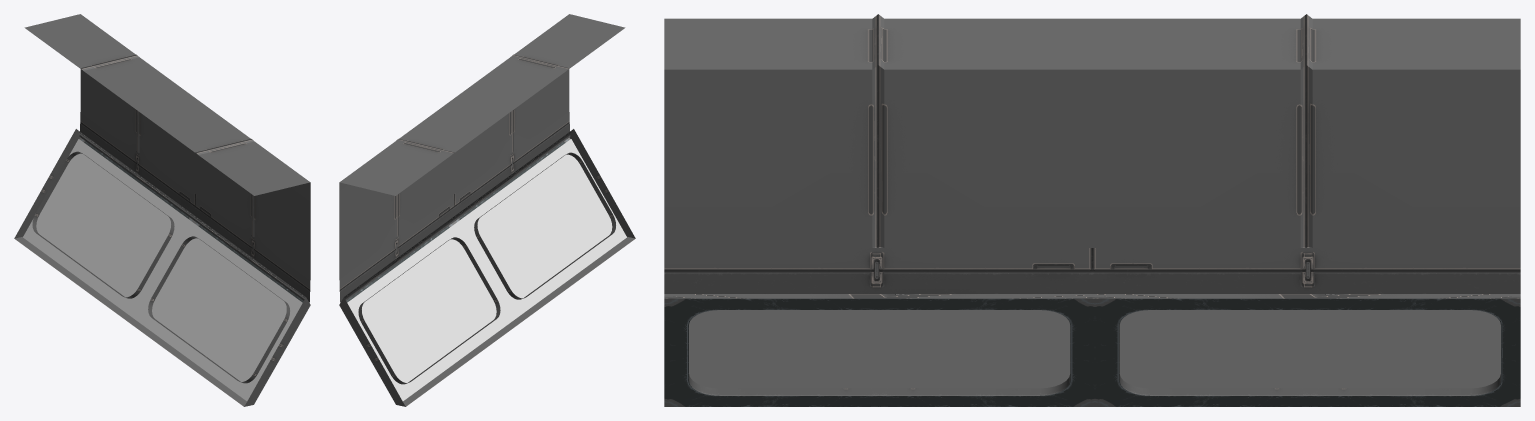
The model's file is S_TopWindowStraight.gltf.
3 renders of one model, left to right at view 1: azimuth 30°, elevation 25°; view 2: azimuth 150°, elevation 25°; view 3: azimuth 270°, elevation 25°, orthographic. The views are drawn at different scales.
Visible parts, largest first — view 1: Plane_172-col; view 2: Plane_172-col; view 3: Plane_172-col.
Boxes of the visible parts, x1=… form: Plane_172-col: x1=14, y1=14, x2=310, y2=406; Plane_172-col: x1=339, y1=14, x2=635, y2=406; Plane_172-col: x1=664, y1=14, x2=1520, y2=406.
Bounding box in the file's own units: 0.6693 × 2.02 × 4.
Materials: 4 (3 with a texture image).
